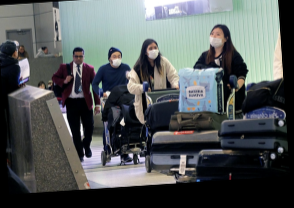with_mask: (207, 28, 224, 47), (145, 44, 159, 58), (109, 52, 121, 66)
without_mask: (72, 52, 83, 63), (16, 46, 24, 53)
